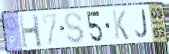5: (85, 10, 104, 43)
7: (41, 13, 58, 47)
H: (18, 13, 44, 51)
J: (134, 8, 149, 40)
K: (111, 9, 130, 41)
S: (63, 11, 86, 45)
